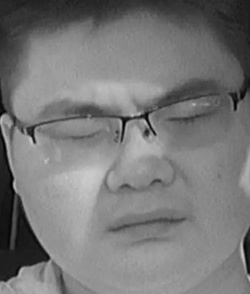blink: (51, 125, 102, 144), (162, 111, 212, 124)
glass: (148, 92, 235, 146), (29, 115, 123, 163)
mouth: (107, 205, 187, 246)
